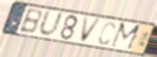8: (60, 14, 78, 41)
B: (17, 8, 43, 36)
C: (97, 21, 116, 46)
M: (109, 22, 144, 52)
U: (37, 8, 65, 39)
V: (79, 16, 103, 44)
